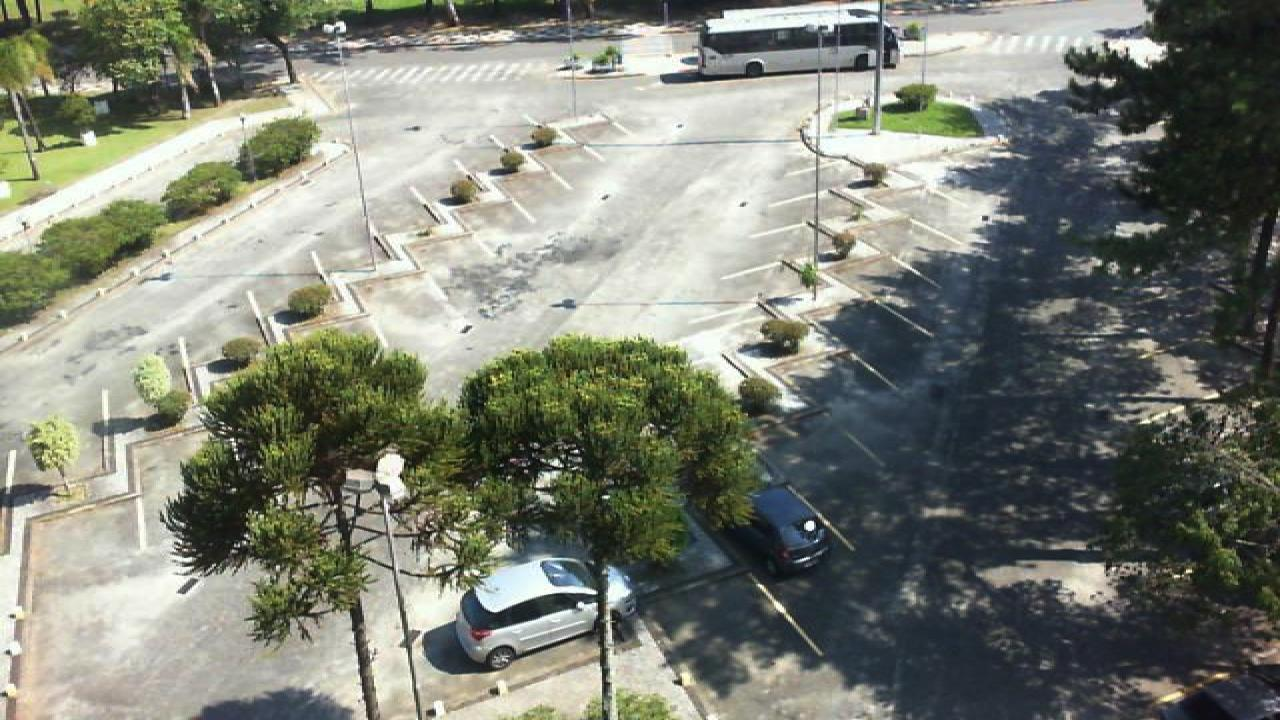Car: (452, 554, 640, 672), (738, 483, 832, 576)
